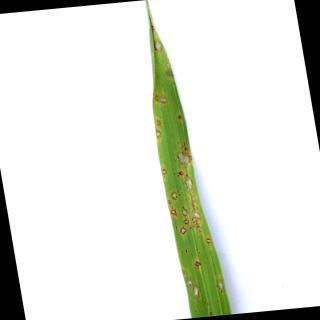Blast: (178, 152, 192, 166), (153, 93, 169, 105), (183, 175, 194, 190), (192, 284, 200, 300), (154, 38, 163, 52), (192, 211, 201, 224), (217, 280, 225, 292), (180, 206, 188, 217), (170, 207, 178, 217), (194, 225, 204, 233), (190, 195, 196, 208), (171, 192, 178, 202), (160, 167, 168, 175), (180, 227, 188, 235), (156, 130, 162, 140), (182, 218, 190, 225), (194, 260, 201, 268), (156, 118, 162, 126), (206, 237, 212, 245), (186, 280, 194, 286), (167, 68, 172, 77), (177, 114, 183, 121), (183, 146, 189, 152), (150, 25, 155, 32), (178, 171, 185, 176)
